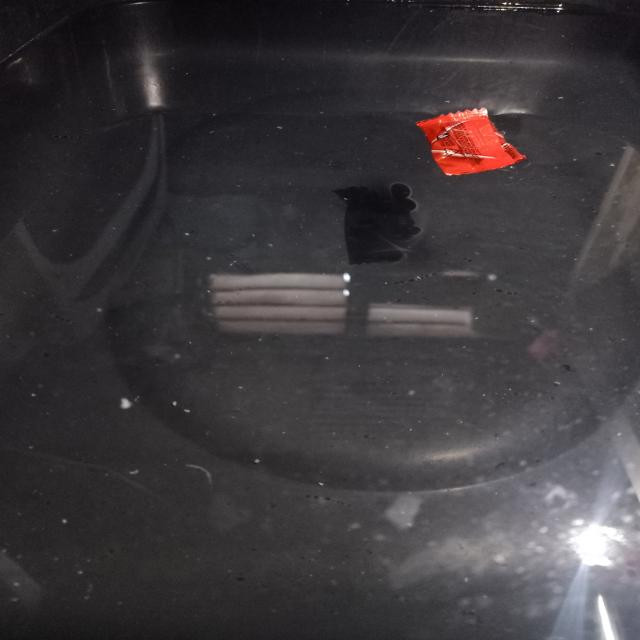Plastic Wrapper: (416, 108, 525, 175)
